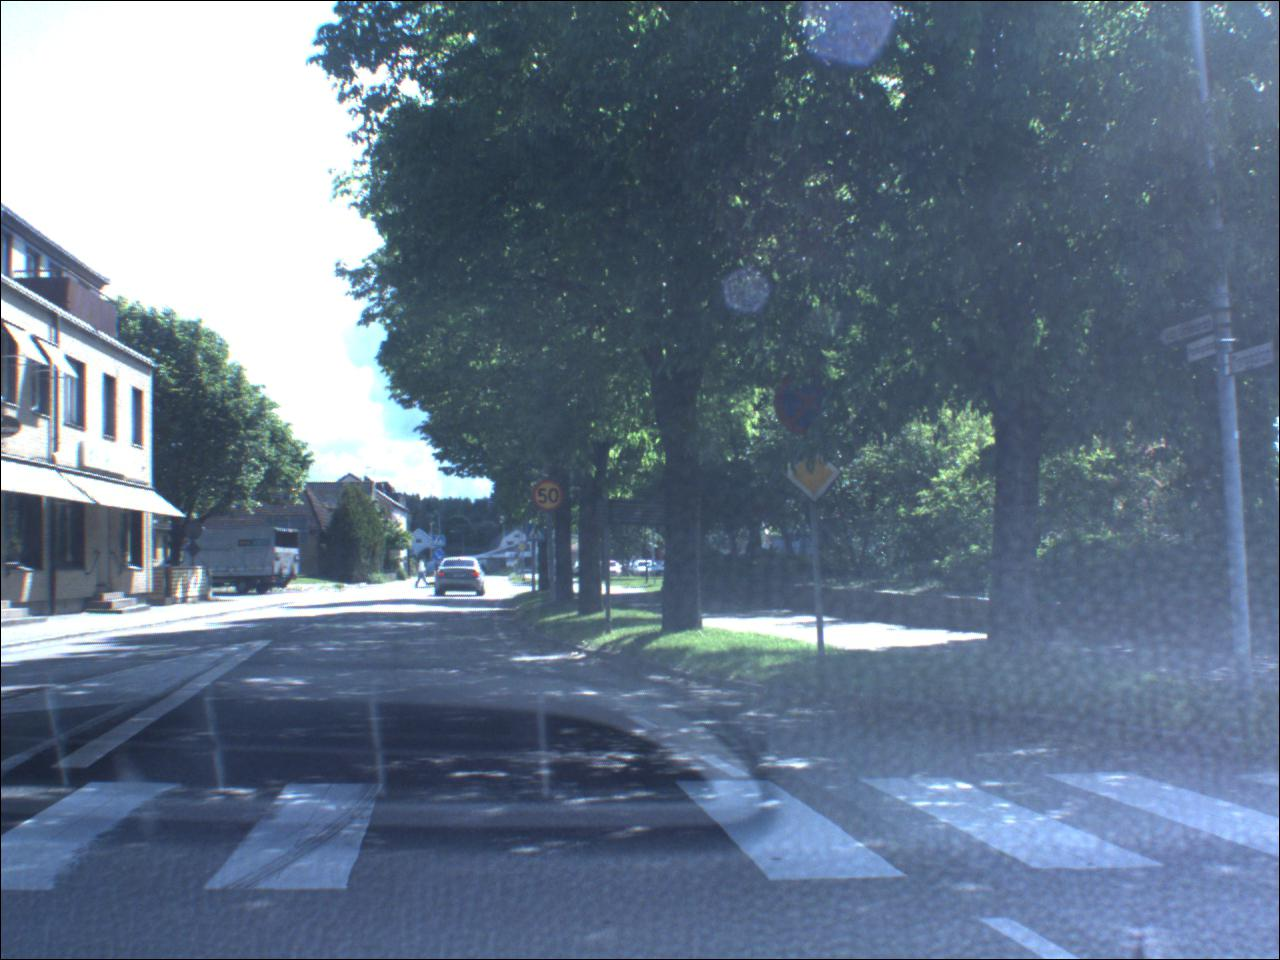50_SIGN: (535, 480, 564, 513)
PASS_RIGHT_SIDE: (435, 551, 447, 564)
PEDESTRIAN_CROSSING: (529, 525, 548, 544), (435, 536, 447, 549)
PRIORITY_ROAD: (786, 441, 845, 506), (521, 545, 529, 553)
